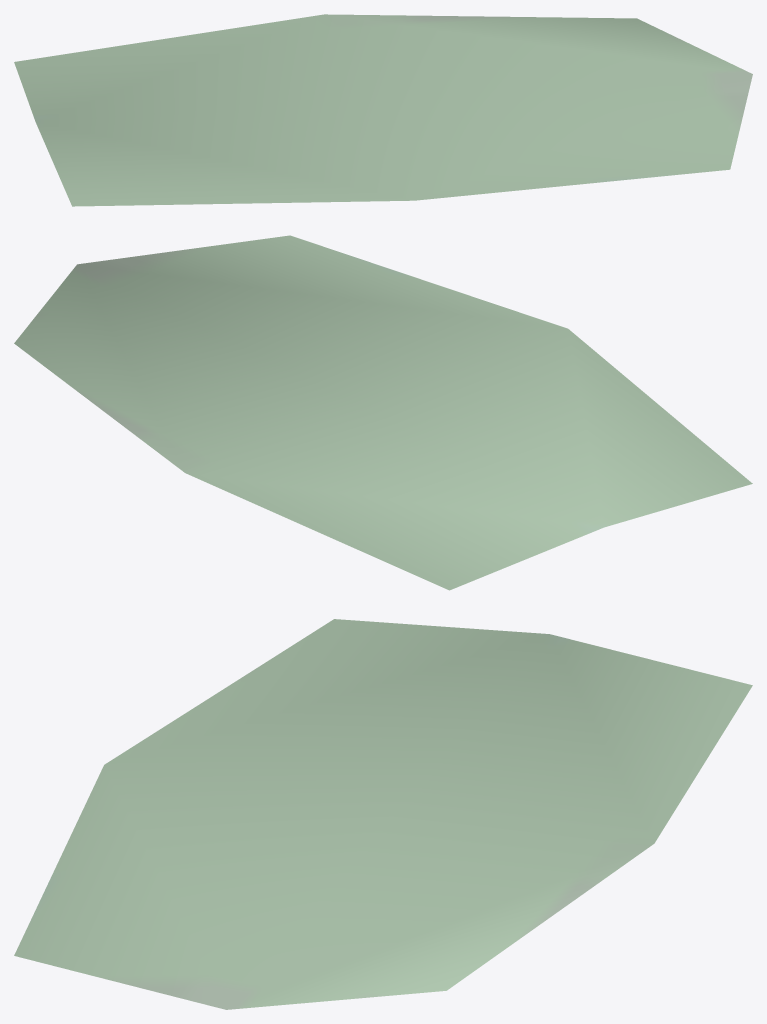
File: TROLLHOLE02_HOLECAP150.fbx
3 views of the same model, one above another, from view 1: azimuth 30°, elevation 25°; view 2: azimuth 150°, elevation 25°; view 3: azimuth 270°, elevation 25° (orthographic). The views are drawn at different scales.
Visible parts, largest first — view 1: TROLLHOLE02_HOLECAP150; view 2: TROLLHOLE02_HOLECAP150; view 3: TROLLHOLE02_HOLECAP150.
Part boxes in pixels (x1,y1,x2,y2): TROLLHOLE02_HOLECAP150: (14,14,752,206); TROLLHOLE02_HOLECAP150: (14,235,752,590); TROLLHOLE02_HOLECAP150: (14,619,752,1009).
Size of the model in its own units: 48436 by 972 by 37796.
Materials: 1 (1 with a texture image).
